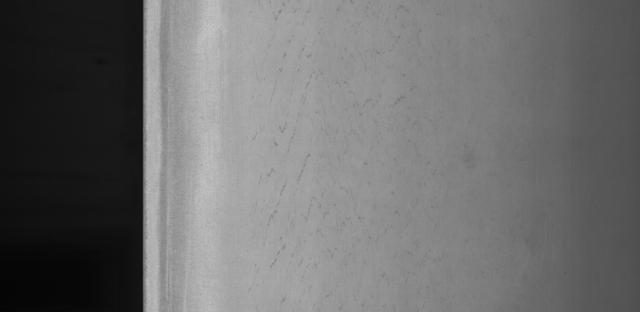silk_spot: (255, 5, 390, 278)
